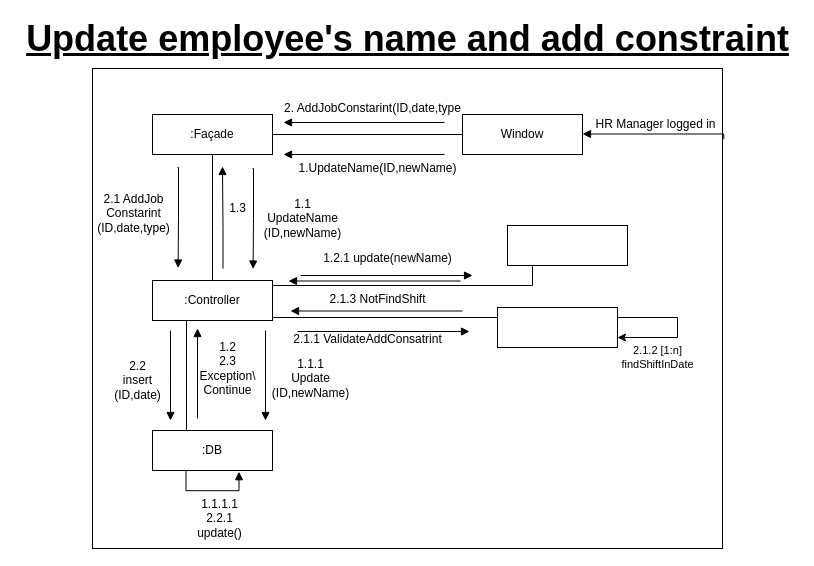
Image size: 814x566. Some labels were removed from this diagram. The shapes that lost their labels are listed below. From the top down, each one's centre as x and y in pixels, then its label:
(x=567, y=245): :Employee
(x=557, y=327): :Shift
